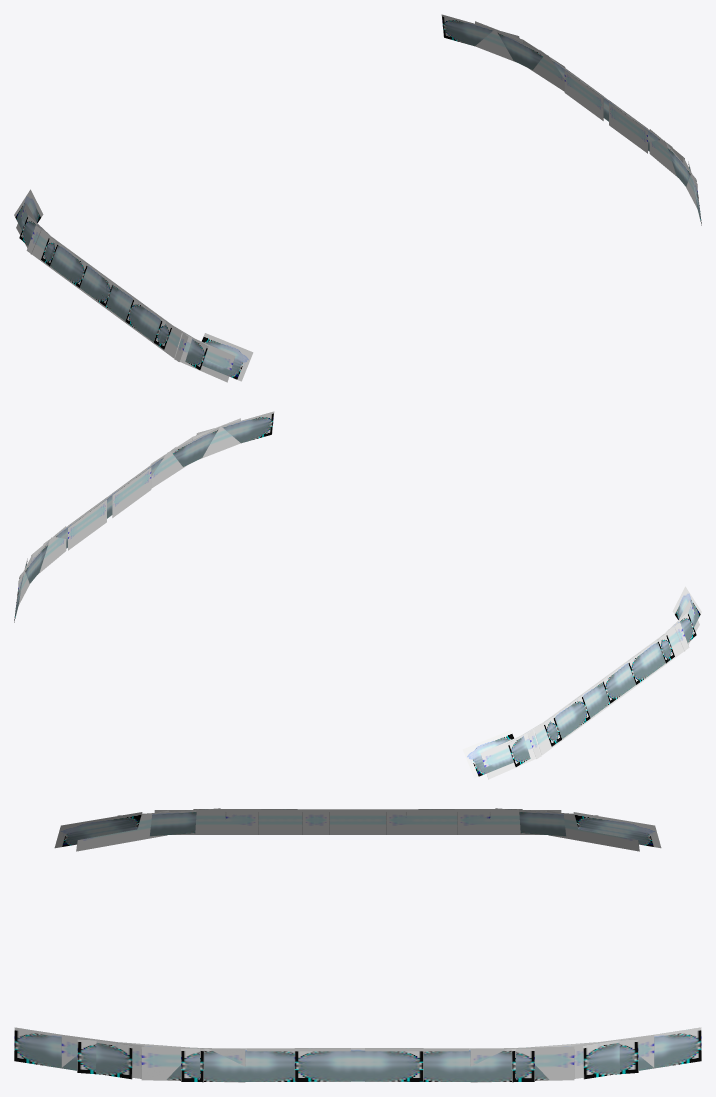
File: st_081_light.fbx
The picture shows the model from 3 angles, top to bottom: view 1: azimuth 30°, elevation 25°; view 2: azimuth 150°, elevation 25°; view 3: azimuth 270°, elevation 25°; orthographic projection. The views are drawn at different scales.
Parts seen in each view (by area): view 1: st_081_Light; view 2: st_081_Light; view 3: st_081_Light.
Boxes of the visible parts, <box> form: st_081_Light: <box>14,14,701,382</box>; st_081_Light: <box>14,411,701,779</box>; st_081_Light: <box>14,808,701,1082</box>.
Bounding box in the file's own units: 241 × 40.72 × 213.
